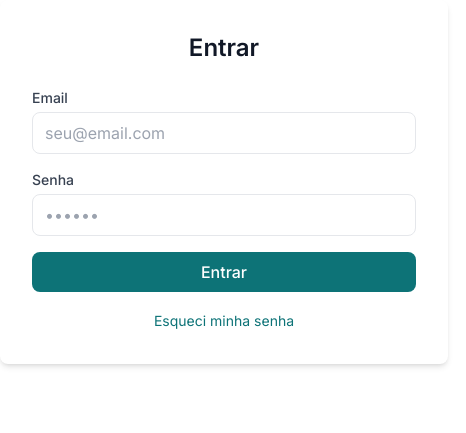
it: LoginForm › submit with empty fields › shows both error messages when form is submitted with empty fields
Click the button "Entrar" at (224, 272), box [32,252,416,292]
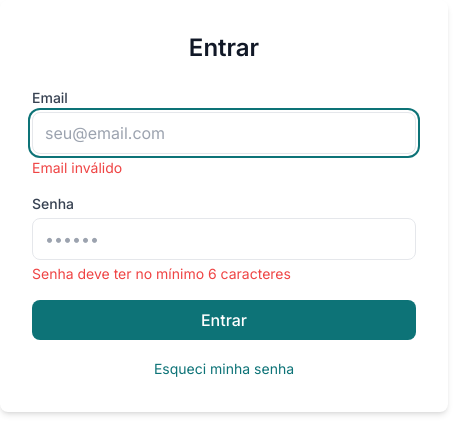
Expected: the text "Email inválido" is shown, [32,159,122,176]
Expected: the text "Senha deve ter no mínimo 6 caracteres" is shown, [32,265,291,282]
